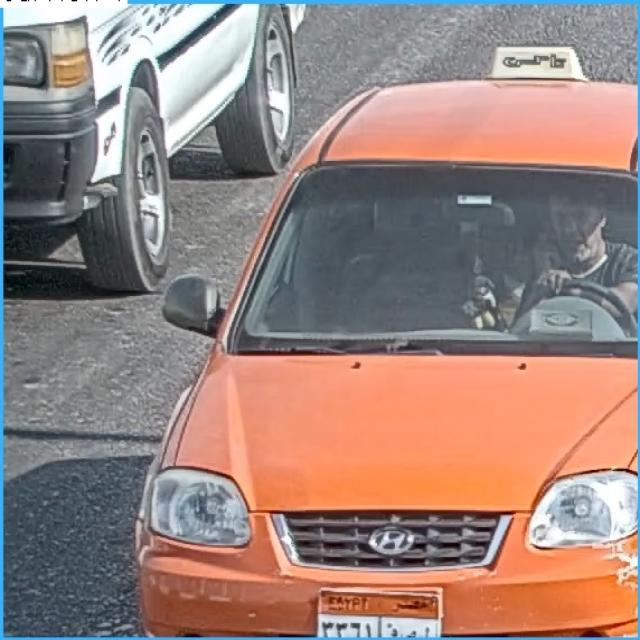windshield: (241, 167, 640, 351)
